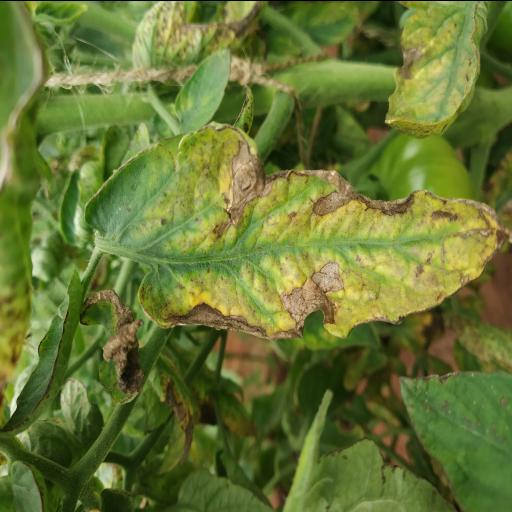Early Blight: (84, 119, 512, 340)
